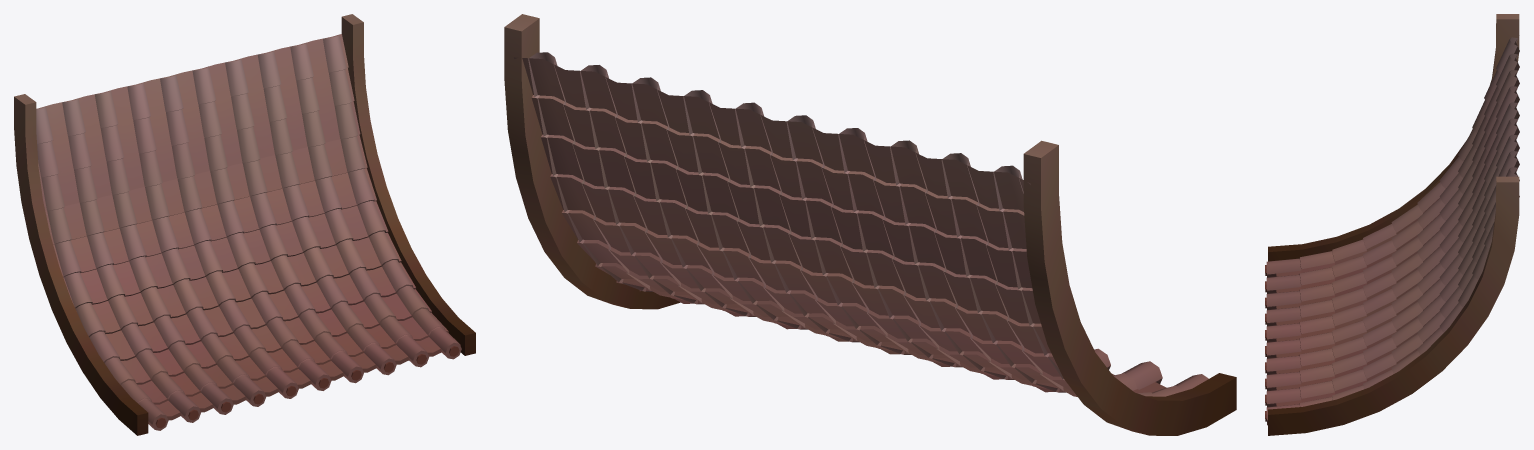
File: M_Roof_01.fbx
3 views of the same model, side by side, from view 1: azimuth 30°, elevation 25°; view 2: azimuth 150°, elevation 25°; view 3: azimuth 270°, elevation 25° (orthographic). The views are drawn at different scales.
Visible parts, largest first — view 1: M_Roof_01; view 2: M_Roof_01; view 3: M_Roof_01.
Part boxes in pixels (x1,y1,x2,y2): M_Roof_01: (14, 14, 475, 435); M_Roof_01: (504, 14, 1236, 435); M_Roof_01: (1265, 14, 1519, 435).
Bounding box in the file's own units: 536 × 377 × 343.
Materials: 1 (1 with a texture image).
